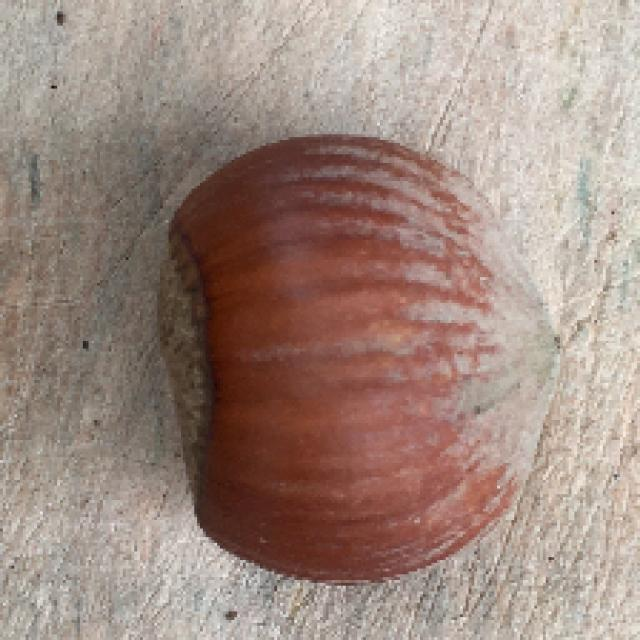qualityHazelnut: (143, 128, 561, 584)
